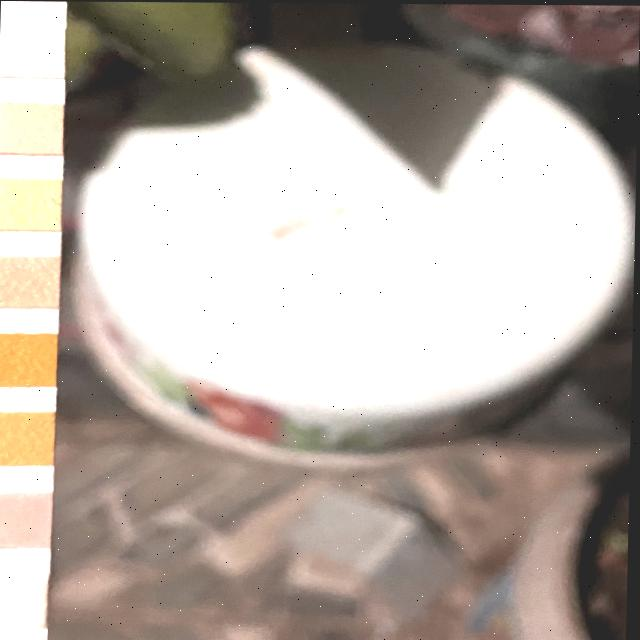Bilirubin: (0, 572, 46, 626)
Blood: (0, 334, 55, 384)
Ketone: (0, 492, 53, 547)
Nitrite: (0, 30, 63, 74)
Protein: (0, 178, 59, 228)
SpGravity: (0, 412, 55, 462)
Urobilinogen: (0, 104, 59, 147)
pH: (0, 255, 58, 305)
